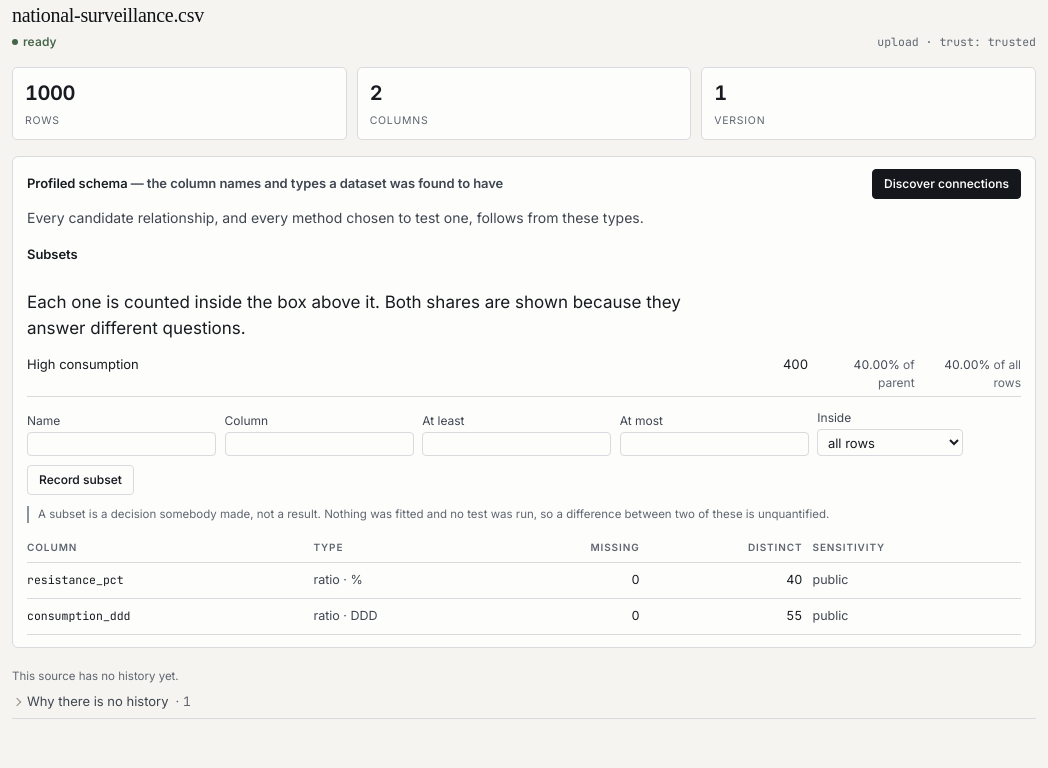
Scenario: pressing a subset shows the column it was drawn on › lights the row and says which column, not only which colour
The image size is (1048, 768).
expect the heading "national-surveillance.csv" is shown: met, box top-left (12, 4), bottom-right (204, 26)
Step 1. Click the button "High consumption" → (83, 364), box top-left (27, 355), bottom-right (774, 374)
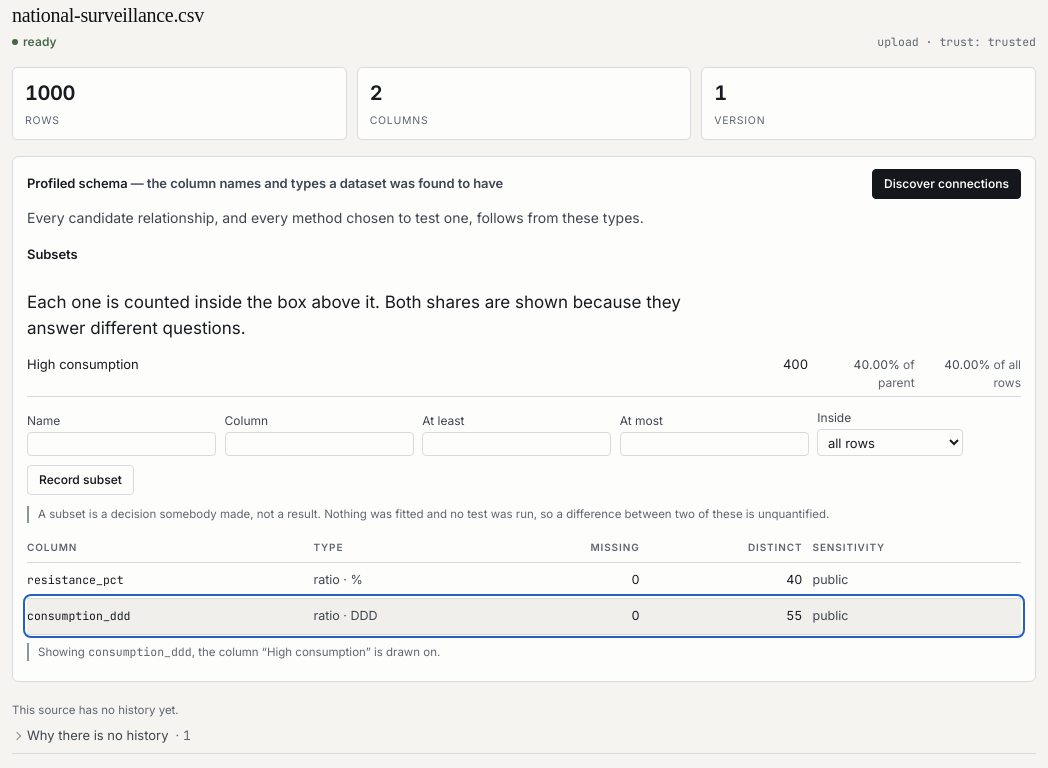
expect the text "the column .High consumption. is drawn on" shows "consumption_ddd": met, box top-left (88, 644), bottom-right (192, 659)
